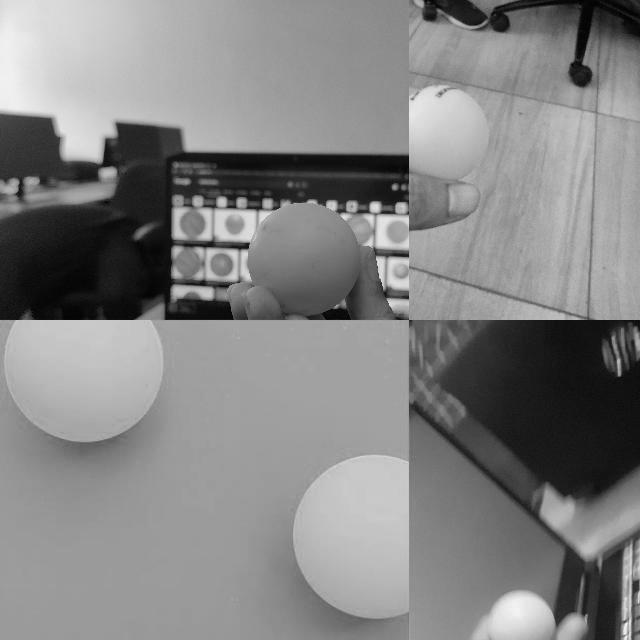ping-pong-ball: (4, 320, 162, 444), (292, 454, 408, 620), (247, 202, 361, 316), (409, 84, 486, 180), (486, 589, 557, 639)
